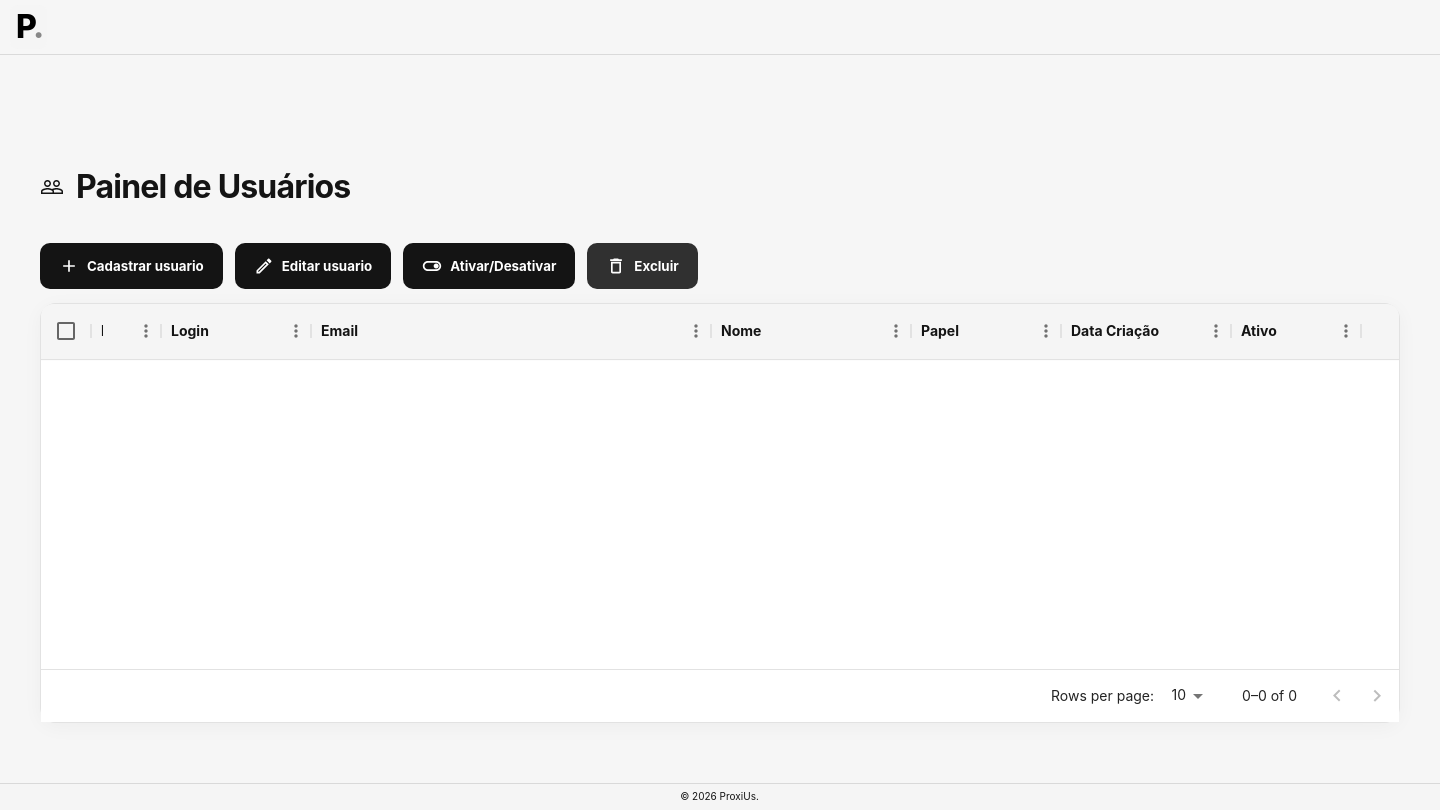
mantém o formulário de cadastro claro em /usuarios
Click the button "Cadastrar usuario" at x=131, y=266, box x1=40 y1=243 x2=223 y2=289
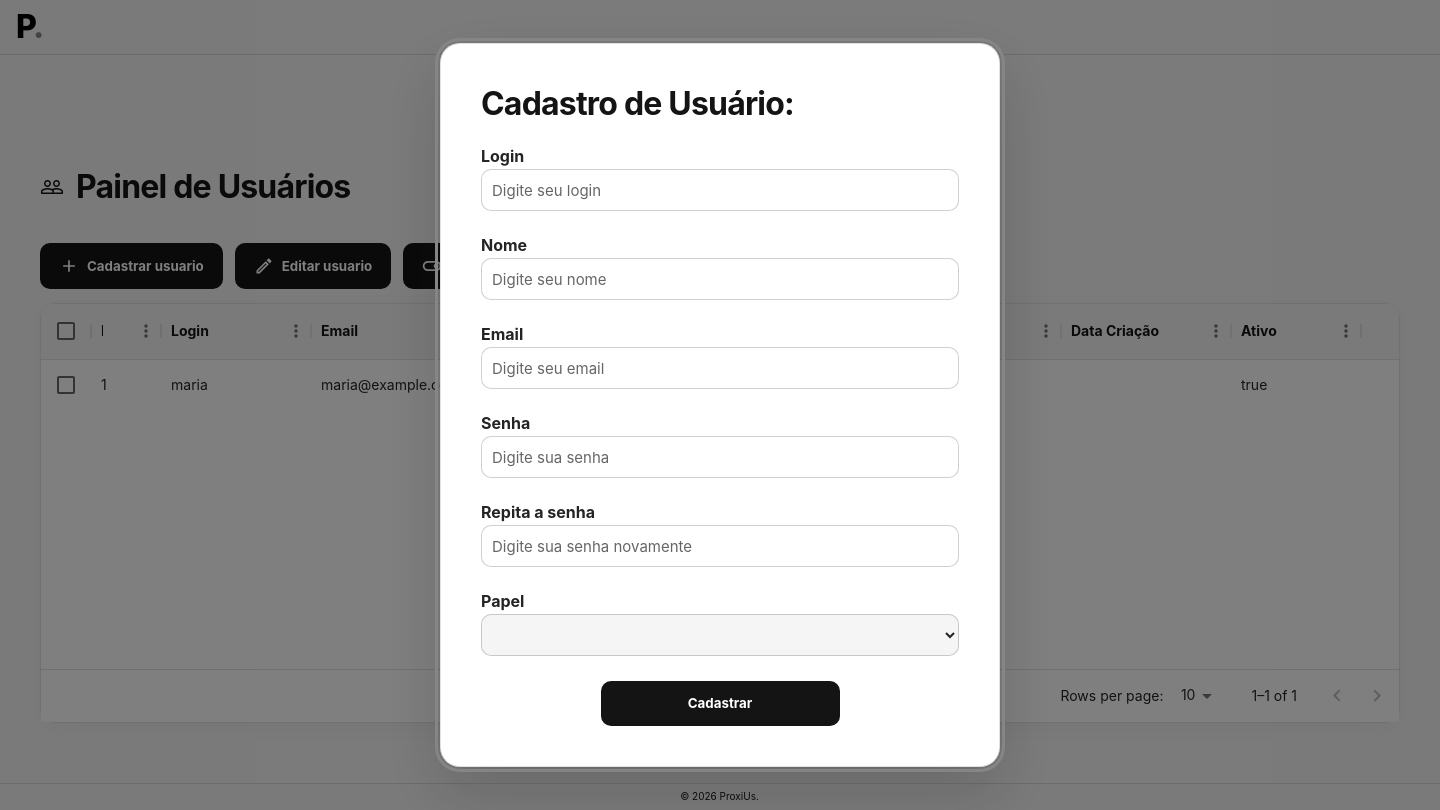
Check: the heading "Cadastro de Usuário:" is shown, box x1=481 y1=84 x2=794 y2=123
